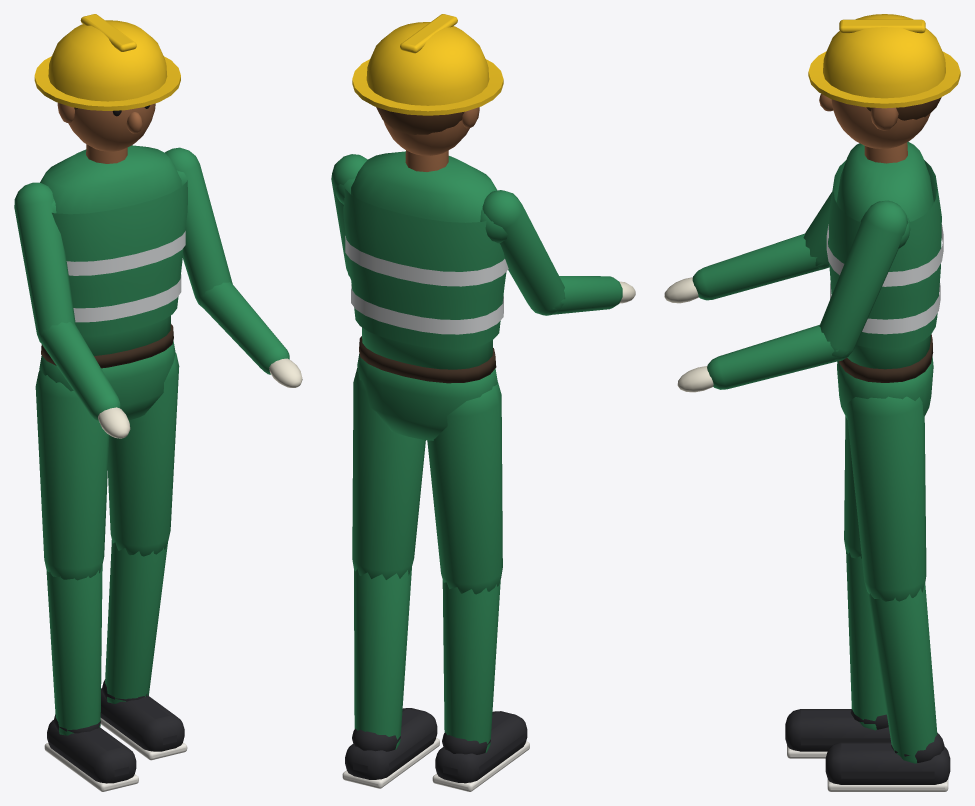
The model's file is crew_work.fbx.
3 views of the same model, side by side, from view 1: azimuth 30°, elevation 25°; view 2: azimuth 150°, elevation 25°; view 3: azimuth 270°, elevation 25° (orthographic). The views are drawn at different scales.
Visible parts, largest first — view 1: crew_work; view 2: crew_work; view 3: crew_work.
Part boxes in pixels (left/top/right/bottom): crew_work: left=14, top=14, right=302, bottom=791; crew_work: left=331, top=14, right=635, bottom=791; crew_work: left=664, top=14, right=960, bottom=791.
Bounding box in the file's own units: 0.531 × 1.78 × 0.6426.
